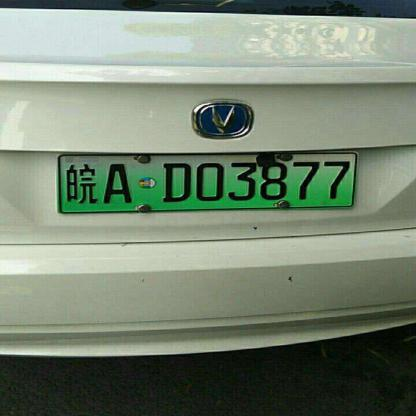lp: (58, 144, 357, 209)
